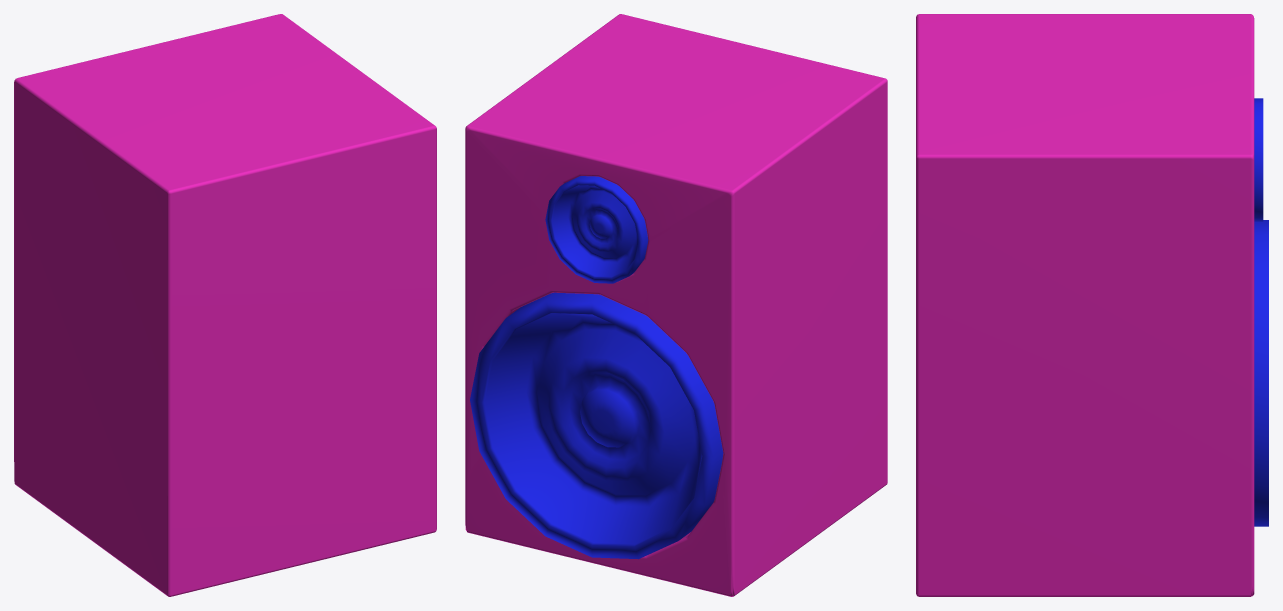
The model's file is SM_RH_Speaker.fbx.
3 views of the same model, side by side, from view 1: azimuth 30°, elevation 25°; view 2: azimuth 150°, elevation 25°; view 3: azimuth 270°, elevation 25° (orthographic). The views are drawn at different scales.
Parts seen in each view (by area): view 1: Cylinder.003; view 2: Cylinder.003; view 3: Cylinder.003.
Boxes of the visible parts, left/top/right/bottom form: Cylinder.003: left=14, top=14, right=436, bottom=596; Cylinder.003: left=465, top=14, right=887, bottom=596; Cylinder.003: left=916, top=14, right=1268, bottom=596.
Bounding box in the file's own units: 52.44 × 75.64 × 54.69.
